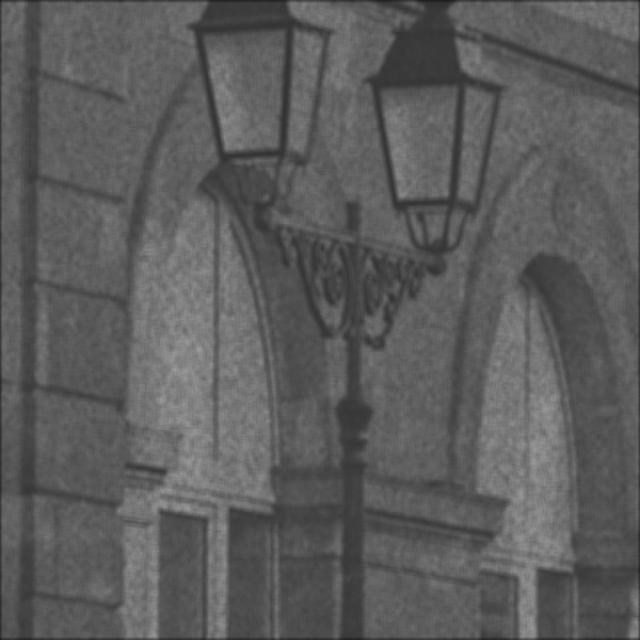lamp_bulb: (181, 9, 334, 174), (362, 61, 508, 227)
